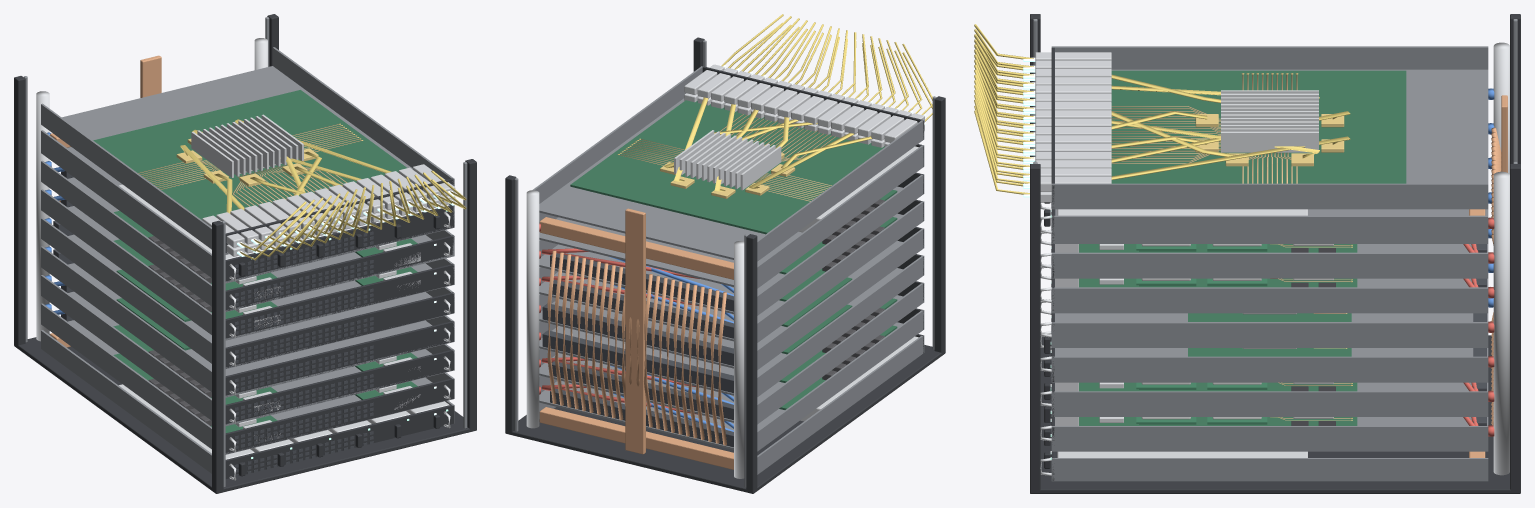
Rendered from rack_scene.glb.
3 renders of one model, left to right at view 1: azimuth 30°, elevation 25°; view 2: azimuth 150°, elevation 25°; view 3: azimuth 270°, elevation 25°, orthographic. The views are drawn at different scales.
Visible parts, largest first — view 1: rack-frame__frame1546, tor-switch__board1299__e8, optical-module__osfp1508__e8__vpluggable, tor-switch__pan1225__e8, tor-switch__heatsink1411__e8, fiber-cable__fibers1509__e8__vpluggable, nvlink-switch__bezel616__e4, compute-tray__bezel103__e1, compute-tray__bezel747__e5, compute-tray__bezel294__e2, compute-tray__bezel938__e6, nvlink-switch__bezel485__e3 (+35 smaller); view 2: rack-frame__frame1546, tor-switch__board1299__e8, nvlink-spine__cables1571, optical-module__osfp1508__e8__vpluggable, tor-switch__pan1225__e8, fiber-cable__fibers1509__e8__vpluggable, power-shelf__busbar1590, tor-switch__heatsink1411__e8, power-shelf__wall1127__e7, compute-tray__wall292__e2, compute-tray__wall101__e1, compute-tray__wall745__e5 (+30 smaller); view 3: tor-switch__board1299__e8, rack-frame__frame1546, power-shelf__wall1128__e7, nvlink-switch__wall484__e3, tor-switch__wall1227__e8, tor-switch__pan1225__e8, compute-tray__wall937__e6, optical-module__osfp1508__e8__vpluggable, nvlink-switch__wall615__e4, compute-tray__wall746__e5, compute-tray__wall102__e1, compute-tray__wall293__e2 (+26 smaller).
Part boxes in pixels (x1,y1,x2,y2): rack-frame__frame1546: [14, 14, 476, 493]; tor-switch__board1299__e8: [93, 90, 406, 219]; optical-module__osfp1508__e8__vpluggable: [202, 164, 455, 256]; tor-switch__pan1225__e8: [41, 66, 412, 254]; tor-switch__heatsink1411__e8: [191, 114, 303, 177]; fiber-cable__fibers1509__e8__vpluggable: [239, 170, 466, 260]; nvlink-switch__bezel616__e4: [225, 292, 454, 368]; compute-tray__bezel103__e1: [225, 378, 454, 453]; compute-tray__bezel747__e5: [225, 264, 454, 338]; compute-tray__bezel294__e2: [225, 349, 454, 424]; compute-tray__bezel938__e6: [225, 235, 454, 311]; nvlink-switch__bezel485__e3: [225, 321, 454, 396]; rack-frame__frame1546: [505, 37, 945, 493]; tor-switch__board1299__e8: [570, 100, 884, 234]; nvlink-spine__cables1571: [547, 250, 726, 445]; optical-module__osfp1508__e8__vpluggable: [684, 64, 926, 147]; tor-switch__pan1225__e8: [539, 98, 924, 261]; fiber-cable__fibers1509__e8__vpluggable: [721, 14, 932, 121]; power-shelf__busbar1590: [625, 208, 645, 454]; tor-switch__heatsink1411__e8: [674, 130, 781, 190]; power-shelf__wall1127__e7: [757, 145, 924, 286]; compute-tray__wall292__e2: [757, 282, 924, 423]; compute-tray__wall101__e1: [757, 309, 924, 450]; compute-tray__wall745__e5: [757, 201, 924, 341]; tor-switch__board1299__e8: [1111, 70, 1406, 183]; rack-frame__frame1546: [1030, 14, 1520, 493]; power-shelf__wall1128__e7: [1051, 215, 1488, 243]; nvlink-switch__wall484__e3: [1051, 356, 1488, 382]; tor-switch__wall1227__e8: [1051, 183, 1488, 209]; tor-switch__pan1225__e8: [1051, 69, 1488, 209]; compute-tray__wall937__e6: [1051, 252, 1488, 278]; optical-module__osfp1508__e8__vpluggable: [1023, 52, 1111, 202]; nvlink-switch__wall615__e4: [1051, 322, 1488, 347]; compute-tray__wall746__e5: [1051, 287, 1488, 313]; compute-tray__wall102__e1: [1051, 426, 1488, 451]; compute-tray__wall293__e2: [1051, 391, 1488, 416].
Bounding box in the file's own units: 6.7 × 7.19 × 10.02.
